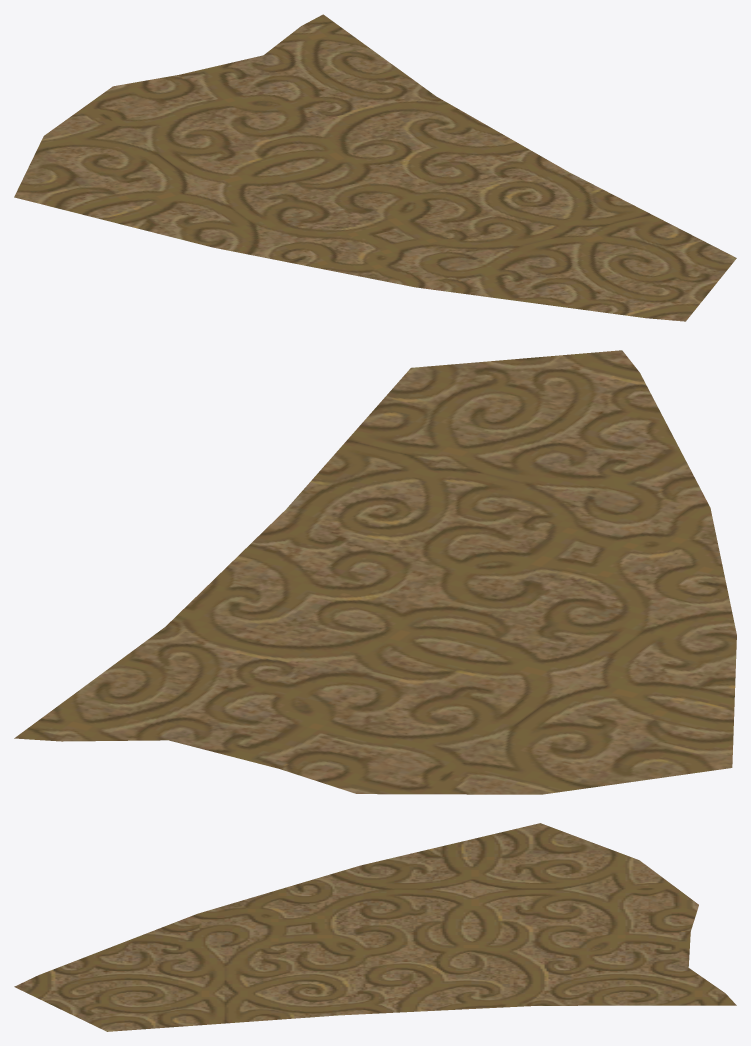
File: EKH_THRONE_PS_TH_LINE22.fbx
3 views of the same model, one above another, from view 1: azimuth 30°, elevation 25°; view 2: azimuth 150°, elevation 25°; view 3: azimuth 270°, elevation 25° (orthographic). The views are drawn at different scales.
Visible parts, largest first — view 1: EKH_THRONE_PS_TH_LINE22; view 2: EKH_THRONE_PS_TH_LINE22; view 3: EKH_THRONE_PS_TH_LINE22.
Boxes of the visible parts, <box> form: EKH_THRONE_PS_TH_LINE22: <box>14,14,736,321</box>; EKH_THRONE_PS_TH_LINE22: <box>14,350,736,794</box>; EKH_THRONE_PS_TH_LINE22: <box>14,823,736,1031</box>.
Bounding box in the file's own units: 40077 × 0.051 × 58639.
Materials: 1 (1 with a texture image).
